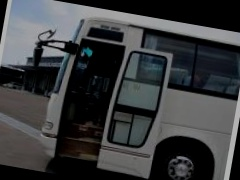bus: (21, 10, 240, 180)
